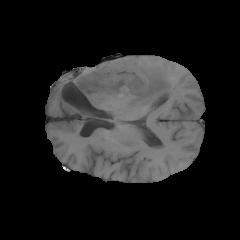glioma: (56, 60, 172, 121)
